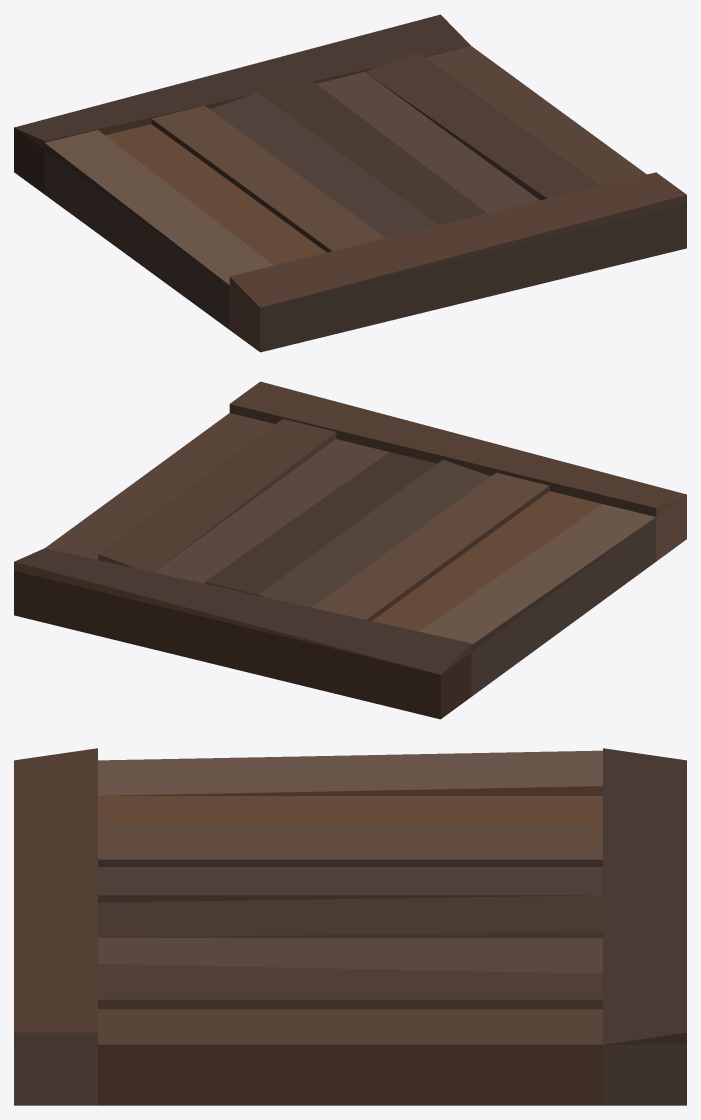
The model's file is Floor_PlanksB_LOD0.fbx.
3 views of the same model, one above another, from view 1: azimuth 30°, elevation 25°; view 2: azimuth 150°, elevation 25°; view 3: azimuth 270°, elevation 25° (orthographic). The views are drawn at different scales.
Parts seen in each view (by area): view 1: Floor_PlanksB_LOD0; view 2: Floor_PlanksB_LOD0; view 3: Floor_PlanksB_LOD0.
Boxes of the visible parts, x1,y1,x2,y2 form: Floor_PlanksB_LOD0: [14, 14, 686, 352]; Floor_PlanksB_LOD0: [14, 381, 686, 719]; Floor_PlanksB_LOD0: [14, 748, 686, 1105].
Size of the model in its own units: 250 by 30 by 250.
